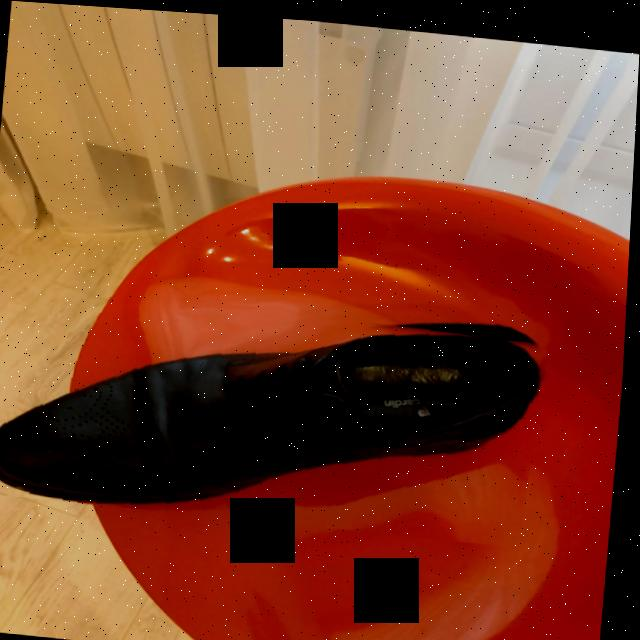shoe: (0, 325, 547, 504)
